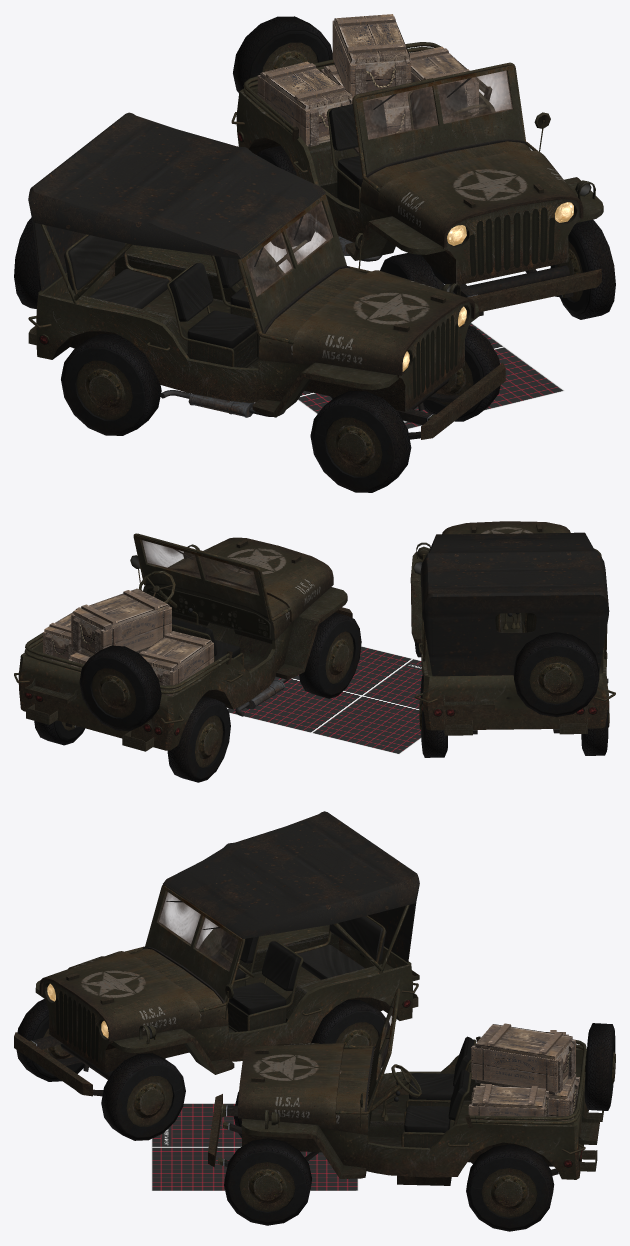
File: low_poly_military_jeep_-_willys_mb_-_ww2_scene.glb
The picture shows the model from 3 angles, top to bottom: view 1: azimuth 30°, elevation 25°; view 2: azimuth 150°, elevation 25°; view 3: azimuth 270°, elevation 25°; orthographic projection. The views are drawn at different scales.
Visible parts, largest first — view 1: Box001, floor_grid; view 2: Box001, floor_grid; view 3: Box001, floor_grid.
Part boxes in pixels (x1,y1,x2,y2): Box001: (14, 14, 615, 492); floor_grid: (298, 322, 564, 429); Box001: (14, 521, 615, 782); floor_grid: (227, 646, 422, 754); Box001: (14, 811, 615, 1231); floor_grid: (151, 1103, 358, 1190).
Size of the model in its own units: 538 by 213 by 581.
5 materials, 5 textured.
